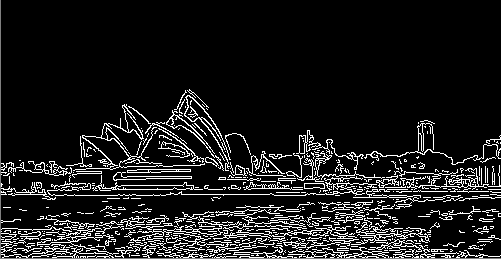opera house: (65, 67, 304, 192)
